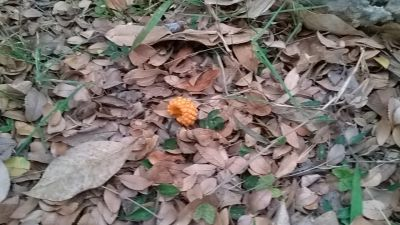eggs: (168, 94, 200, 128)
